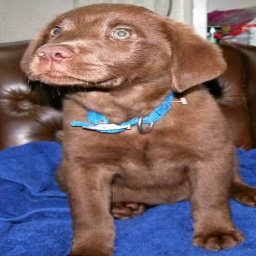dog: (20, 5, 246, 256)
